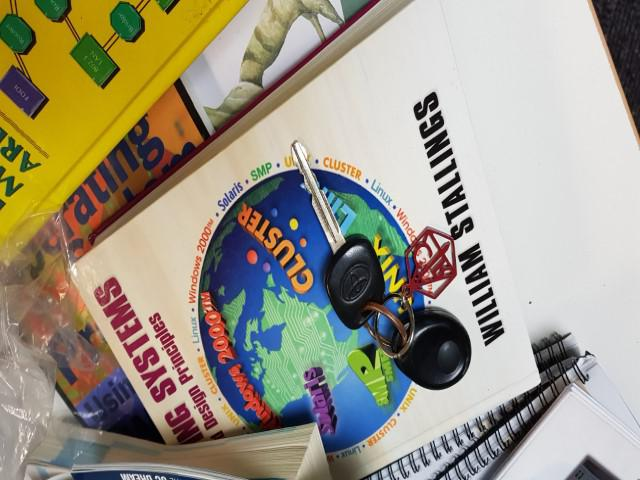key: (286, 135, 390, 334)
